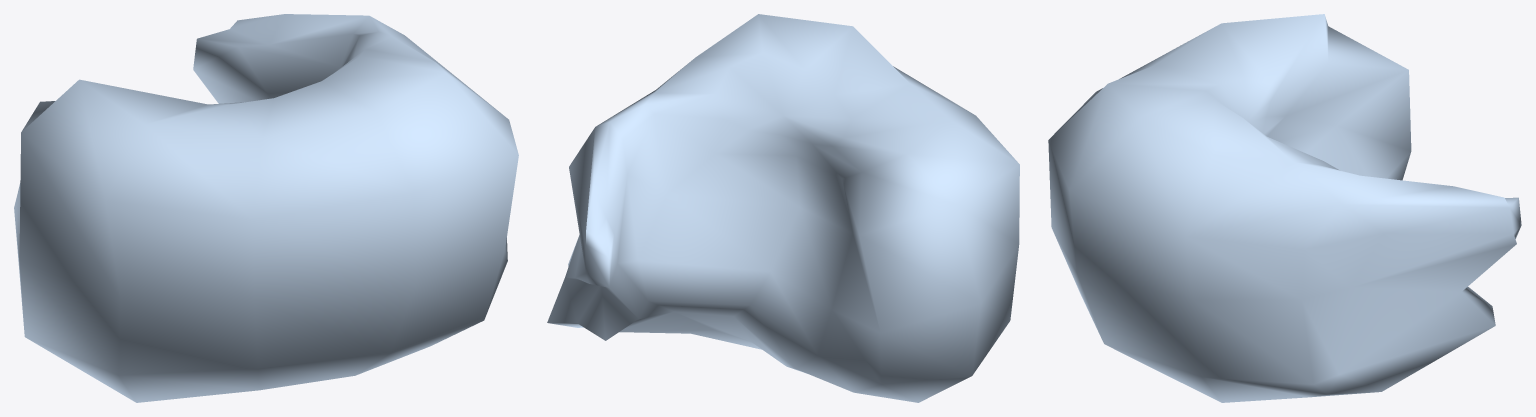
Rendered from hAsteroid1_coll.obj.
3 renders of one model, left to right at view 1: azimuth 30°, elevation 25°; view 2: azimuth 150°, elevation 25°; view 3: azimuth 270°, elevation 25°, orthographic. The views are drawn at different scales.
Visible parts, largest first — view 1: sphere2; view 2: sphere2; view 3: sphere2.
Boxes of the visible parts, box(x1,y1,x2,y2) form: sphere2: box(14, 14, 518, 402); sphere2: box(547, 14, 1019, 402); sphere2: box(1048, 14, 1521, 402).
Bounding box in the file's own units: 92.3 × 58.19 × 91.62.
